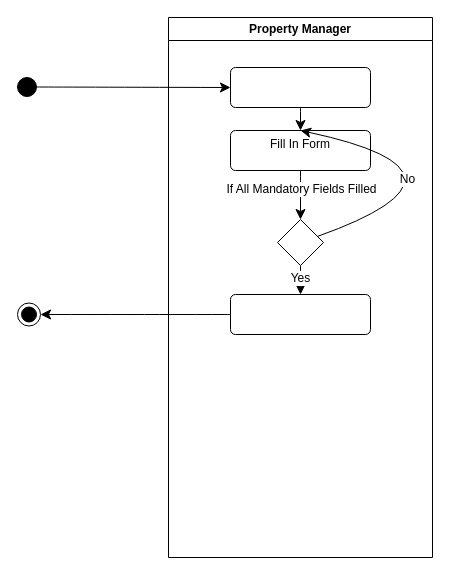
The diagram is 450 pixels wide and 575 high, and some of its shapes have lost their labels. Here are the shapes that lost their labels. From the top down, the centre of each, then its label:
At pixel 300 87: "Click 'Add Property' Btn".
At pixel 300 314: "Property Created and Viewed On List".
